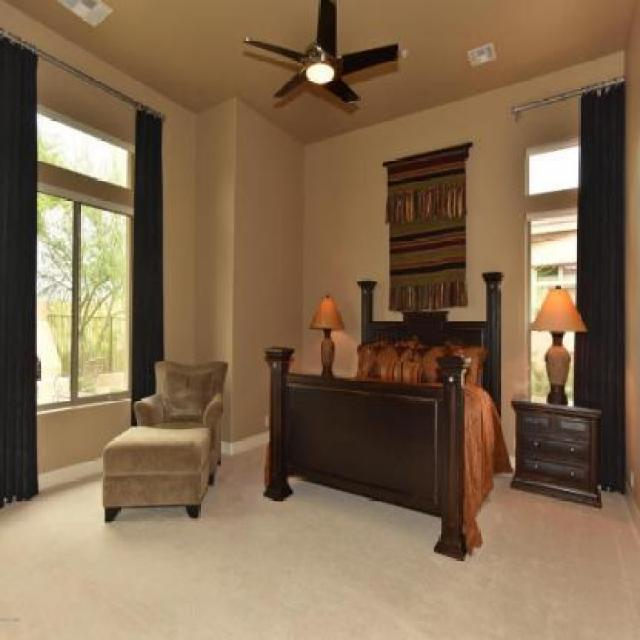Floor: (0, 444, 639, 639)
